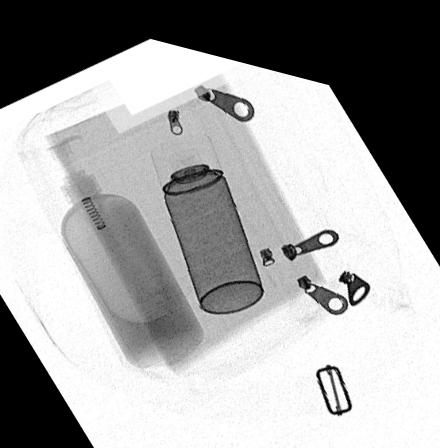Sprayer: (149, 122, 264, 301)
